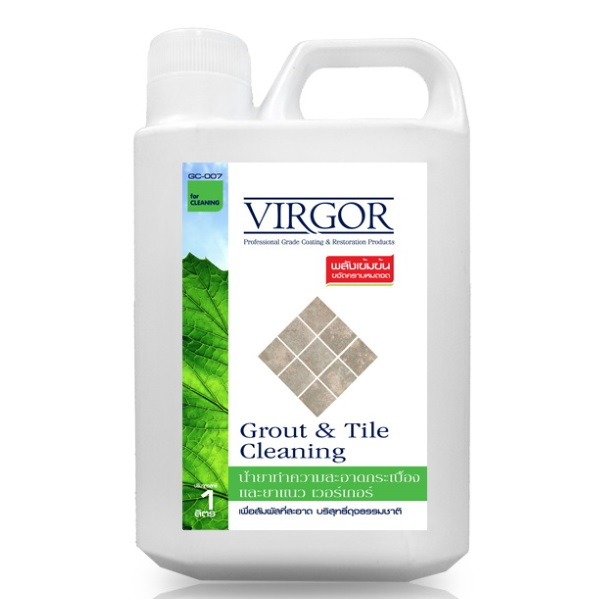Cleaning_solution: (130, 23, 474, 586)
